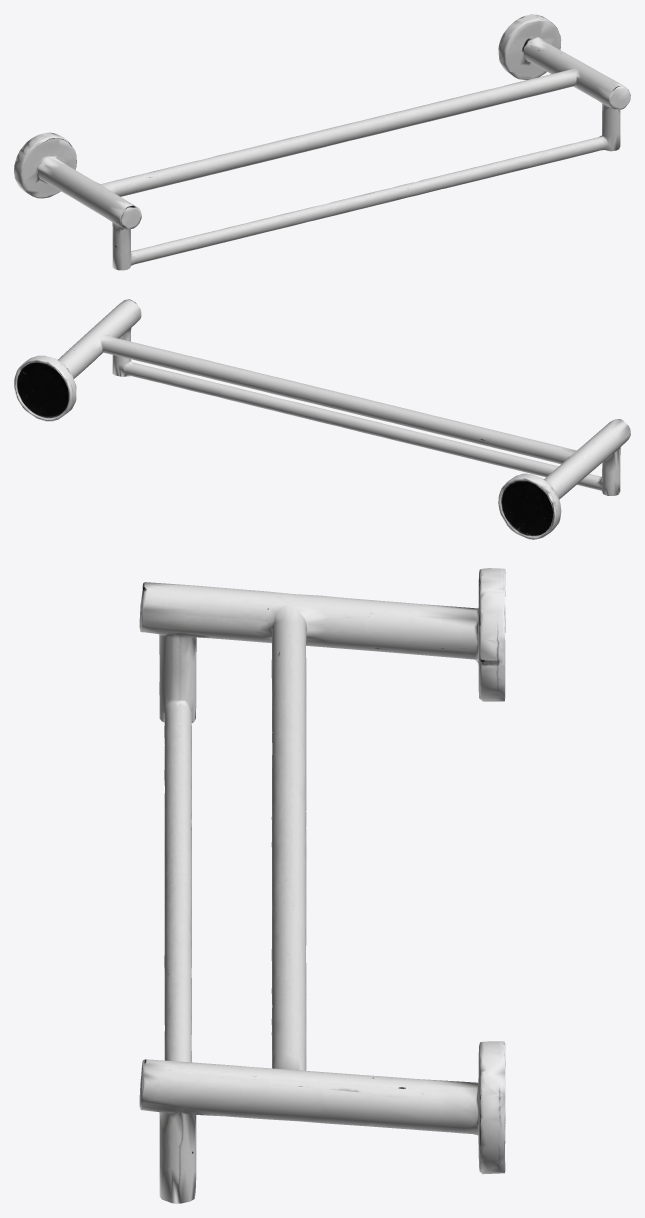
Rendered from Chrome Double Towel.glb.
3 renders of one model, top to bottom at view 1: azimuth 30°, elevation 25°; view 2: azimuth 150°, elevation 25°; view 3: azimuth 270°, elevation 25°, orthographic. The views are drawn at different scales.
Parts seen in each view (by area): view 1: Mesh_0; view 2: Mesh_0; view 3: Mesh_0.
Part boxes in pixels (x1=…): Mesh_0: x1=14, y1=14, x2=630, y2=270; Mesh_0: x1=14, y1=299, x2=630, y2=539; Mesh_0: x1=139, y1=568, x2=505, y2=1203.
Size of the model in its own units: 0.4632 by 0.06 by 0.1355.
1 material, 1 textured.
